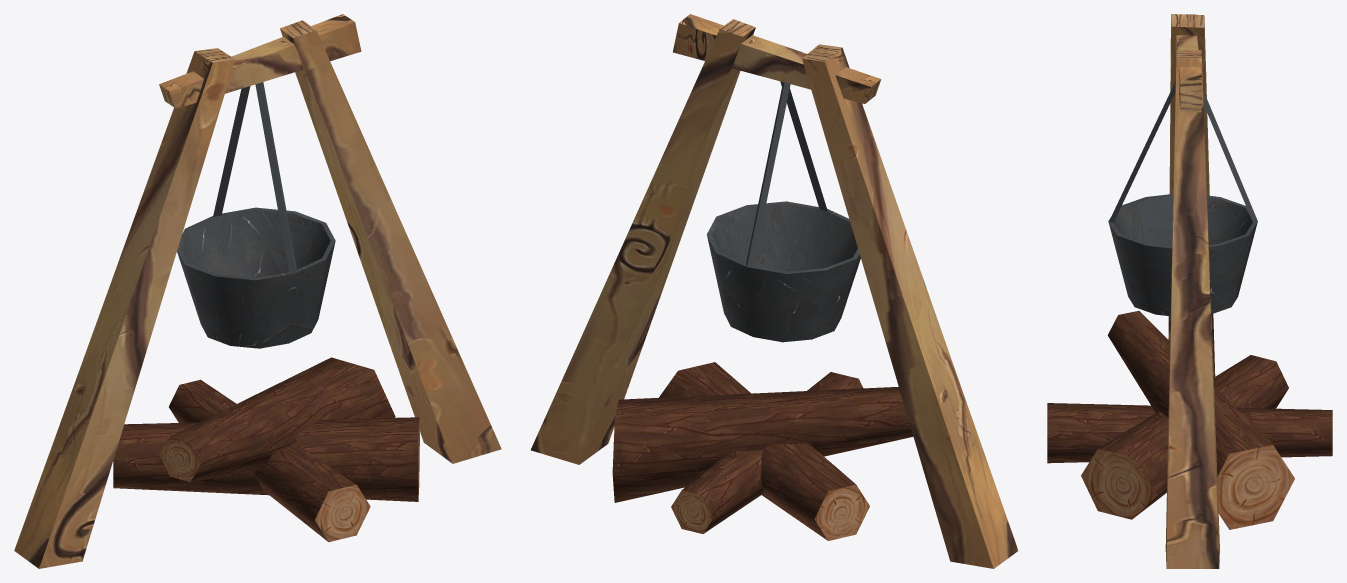
The model's file is Campfire.FBX.
3 views of the same model, side by side, from view 1: azimuth 30°, elevation 25°; view 2: azimuth 150°, elevation 25°; view 3: azimuth 270°, elevation 25° (orthographic). The views are drawn at different scales.
Parts seen in each view (by area): view 1: Campfire; view 2: Campfire; view 3: Campfire.
Part boxes in pixels (bbox=[...]): Campfire: bbox=[14, 14, 501, 568]; Campfire: bbox=[531, 14, 1018, 568]; Campfire: bbox=[1047, 14, 1332, 568].
Bounding box in the file's own units: 1.53 × 1.49 × 0.8786.
1 material, 1 textured.
